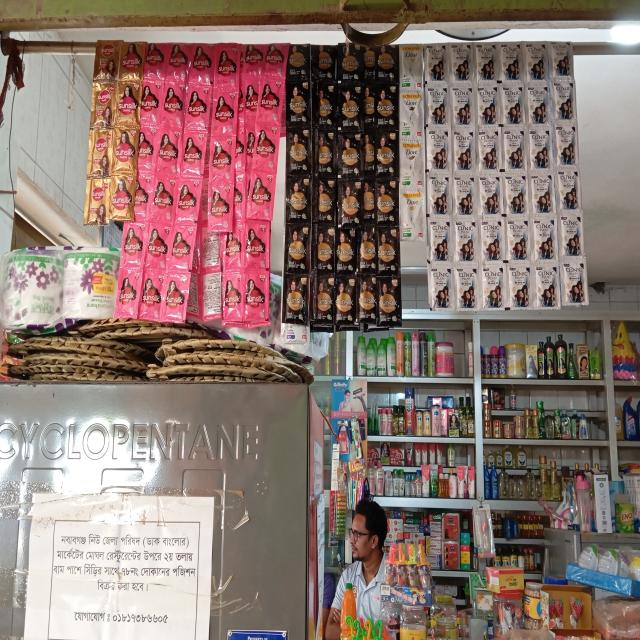ubl: (375, 270, 403, 332), (245, 165, 275, 222), (85, 128, 115, 184), (242, 265, 270, 324), (399, 183, 427, 240), (285, 170, 311, 226), (282, 223, 308, 276), (333, 278, 357, 334), (283, 272, 308, 325), (111, 129, 138, 178), (141, 267, 165, 322), (561, 258, 588, 306), (222, 271, 245, 326), (211, 84, 236, 134), (339, 130, 363, 182), (89, 82, 116, 128), (208, 176, 231, 230), (315, 82, 342, 127), (109, 173, 134, 221), (285, 80, 310, 128), (399, 131, 424, 179), (175, 171, 198, 223), (338, 36, 362, 85), (316, 132, 342, 177), (115, 264, 138, 314), (260, 72, 282, 124), (163, 270, 183, 327), (285, 130, 309, 177), (333, 224, 355, 275), (559, 213, 583, 259), (313, 274, 332, 332), (399, 80, 424, 124), (146, 221, 168, 270), (359, 224, 380, 275), (245, 222, 268, 268), (374, 129, 396, 177), (507, 265, 532, 307), (141, 37, 166, 79), (372, 81, 394, 128), (255, 119, 275, 170), (477, 126, 500, 170), (339, 86, 362, 130), (186, 86, 208, 132), (121, 219, 144, 263), (161, 84, 184, 128), (534, 266, 558, 308), (428, 266, 452, 308), (554, 123, 578, 165), (551, 79, 575, 121), (428, 219, 451, 262), (480, 220, 503, 263), (477, 174, 500, 217), (358, 274, 376, 328), (425, 128, 447, 172), (452, 128, 474, 172), (152, 177, 174, 221), (450, 43, 473, 85), (209, 136, 232, 178), (528, 84, 549, 130), (454, 268, 478, 308), (556, 169, 580, 209), (502, 174, 526, 214), (501, 39, 522, 84), (214, 45, 237, 86), (172, 223, 192, 270), (481, 266, 503, 308), (454, 221, 476, 263), (506, 220, 528, 262), (502, 128, 524, 170), (476, 86, 498, 128), (375, 178, 396, 222), (530, 174, 553, 214), (424, 84, 447, 124), (528, 128, 551, 168), (315, 225, 334, 273), (157, 130, 176, 178), (532, 219, 554, 260), (501, 85, 523, 126), (399, 46, 426, 79), (317, 181, 337, 225), (95, 39, 117, 79), (373, 46, 398, 81), (551, 45, 578, 77), (480, 45, 500, 88), (342, 183, 362, 226), (427, 175, 449, 214), (525, 44, 548, 80), (138, 131, 156, 177), (118, 82, 138, 123), (312, 45, 336, 79), (140, 80, 158, 125), (379, 224, 396, 270), (182, 134, 201, 175), (168, 40, 187, 79), (192, 46, 212, 83), (120, 43, 139, 80), (134, 178, 149, 216)
